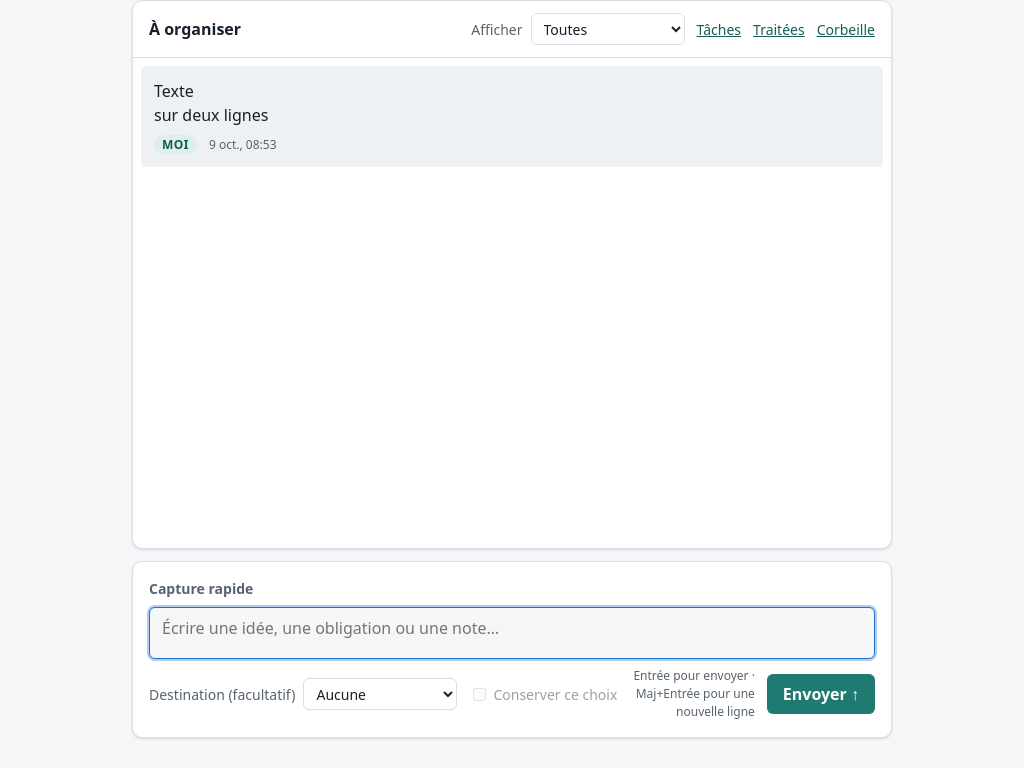
Scenario: 003-A — création à partir du brouillon › sans modification : la description est le texte intégral et le classement est « conservé »
Click the button "Texte sur deux lignes Moi 9 oct., 08:53": (174, 91) [142,67,882,166]
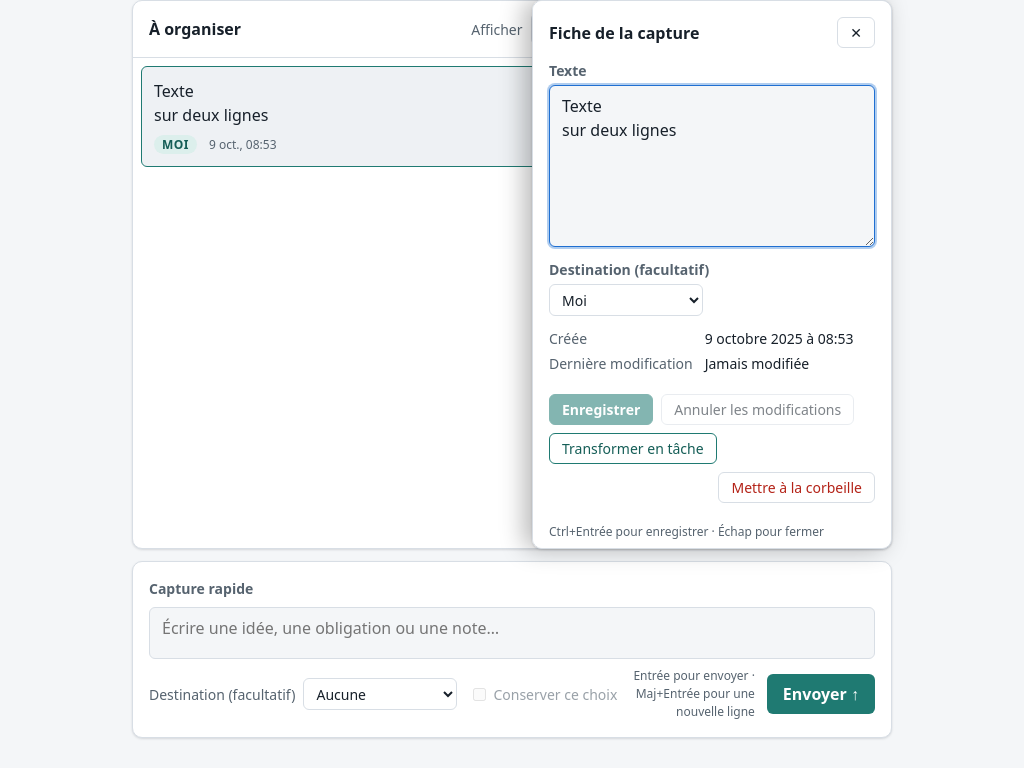
Click the button "Transformer en tâche": (633, 448) [549,433,717,464]
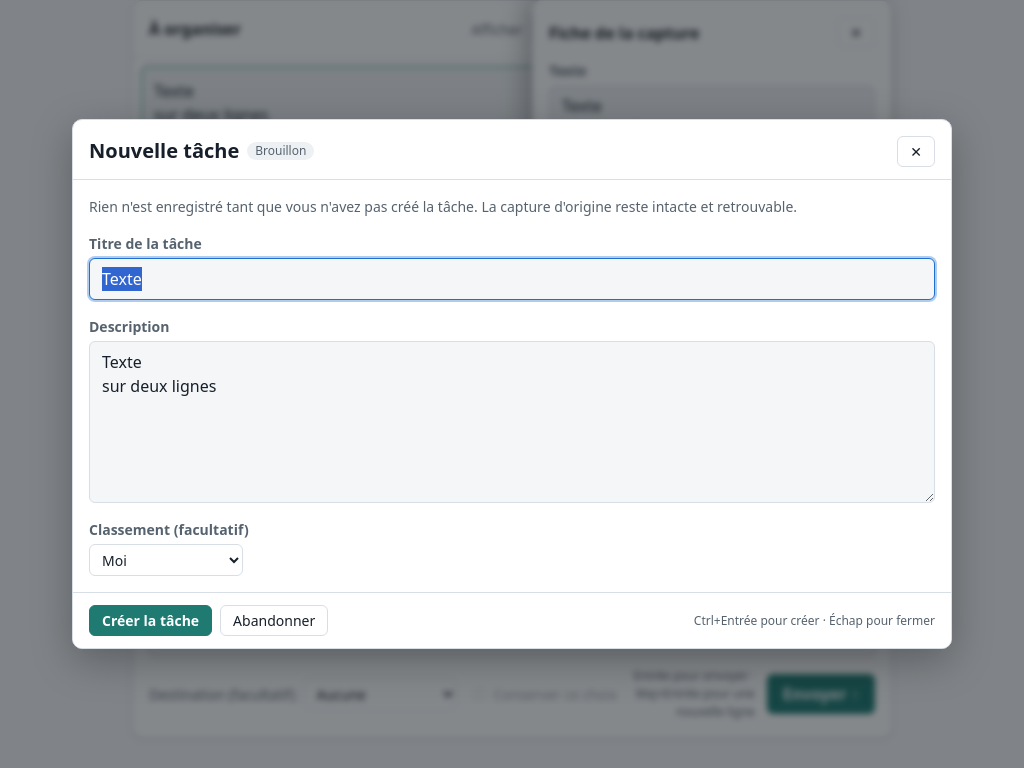
Now the dialog "Nouvelle tâche" is shown, box [72,119,952,649]
Now the field labelled "Titre de la tâche" holds "Texte", box [89,258,935,300]
Click the button "Créer la tâche": (151, 620) [89,605,212,636]
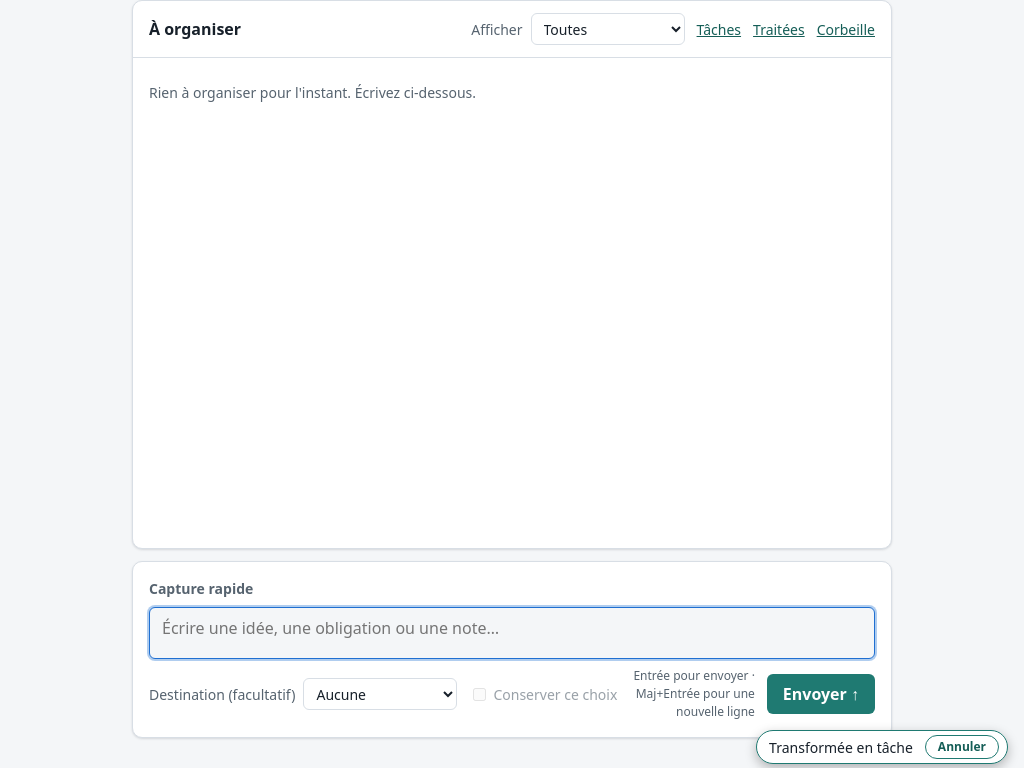
Now the text "Transformée en tâche" is shown, box [769,737,913,758]
